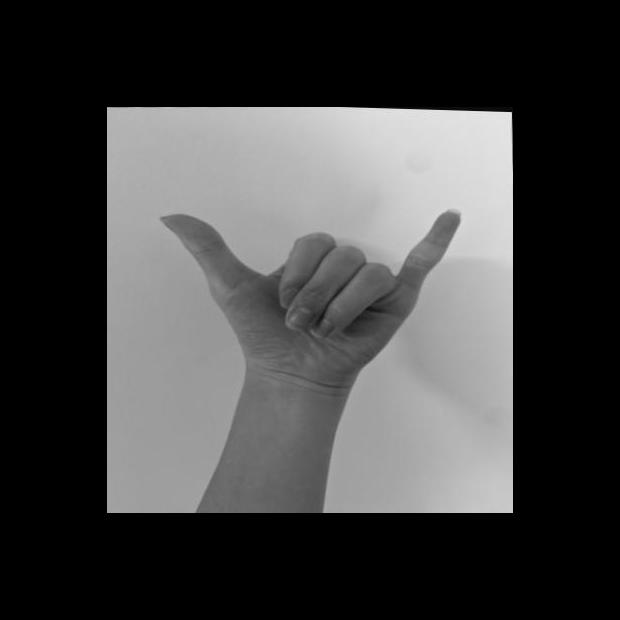X: (155, 197, 474, 394)
